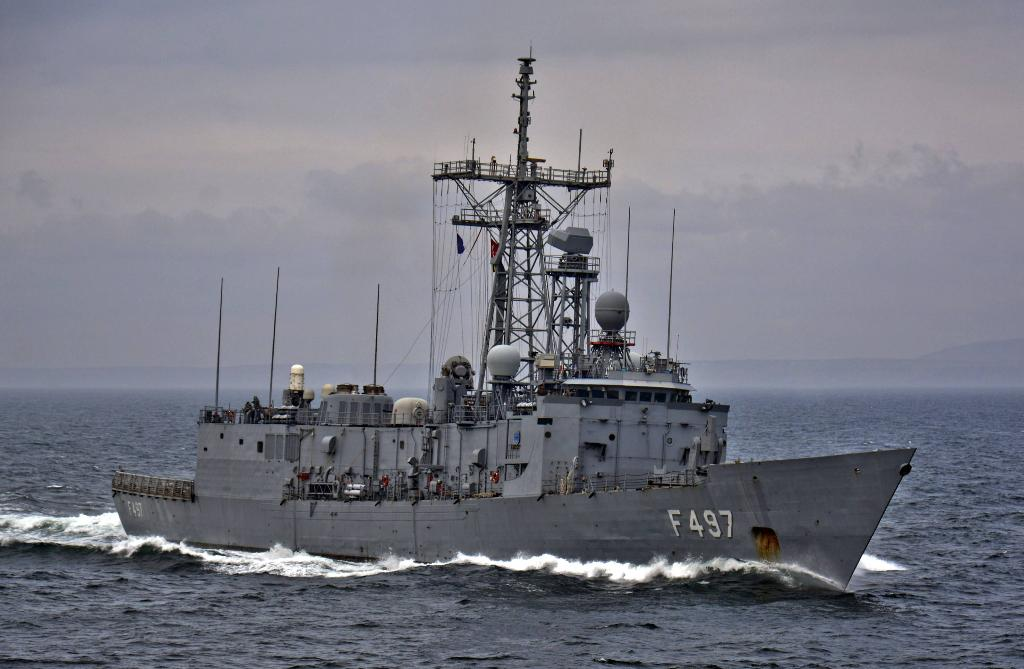Warship: (106, 39, 920, 607)
